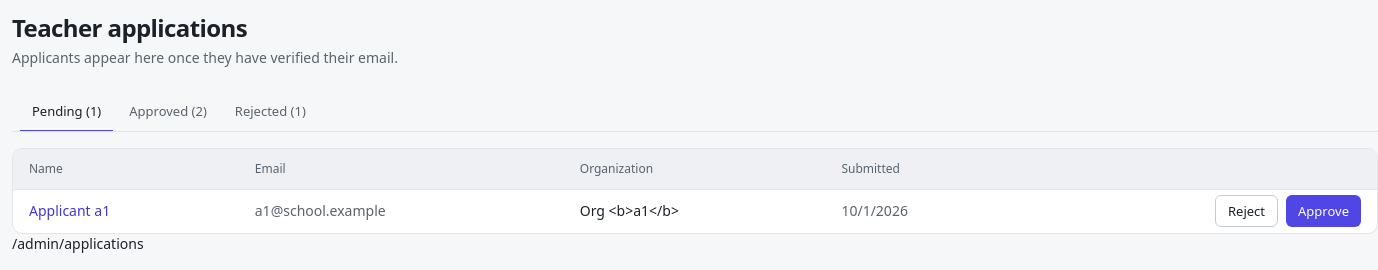
Test: applications queue › switches tabs, keeping the choice in the URL
Expected: the button "Applicant a1" is shown, [29,201,110,221]
Press the mouse on the tab "Rejected (1)" at (270, 112), box [223,92,318,132]
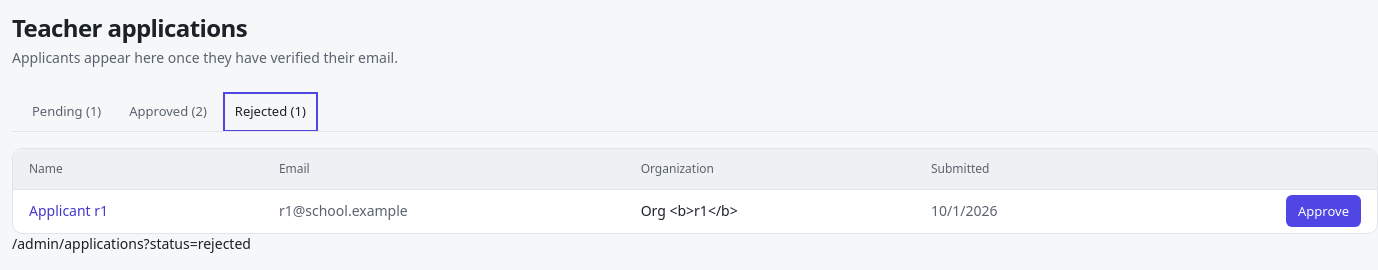
Result: the button "Applicant r1" is shown at [29,201,108,221]
Result: the text with test id "where" shows "status=rejected" at [144,234,251,253]
